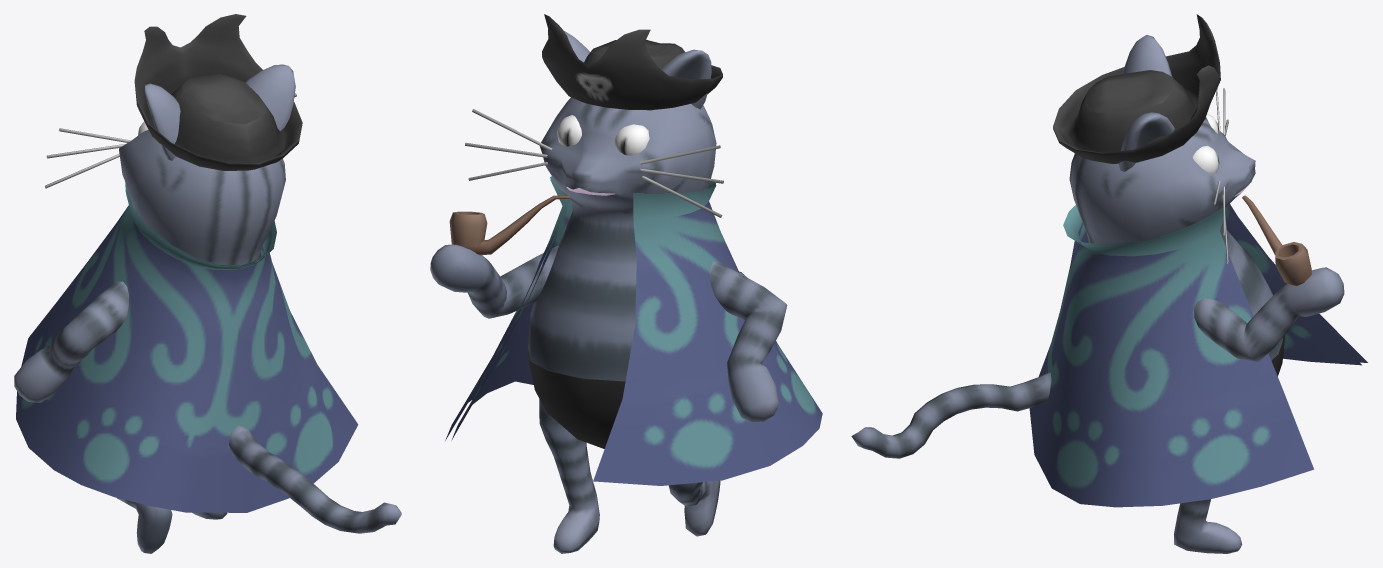
Rendered from neko_walk_a_07.fbx.
The picture shows the model from 3 angles, left to right: view 1: azimuth 30°, elevation 25°; view 2: azimuth 150°, elevation 25°; view 3: azimuth 270°, elevation 25°; orthographic projection. The views are drawn at different scales.
Parts seen in each view (by area): view 1: W_a_07; view 2: W_a_07; view 3: W_a_07.
Boxes of the visible parts, x1,y1,x2,y2 form: W_a_07: (14, 14, 401, 553); W_a_07: (430, 14, 822, 553); W_a_07: (851, 14, 1367, 553).
Bounding box in the file's own units: 1.25 × 1.98 × 1.84.
Materials: 1 (1 with a texture image).
